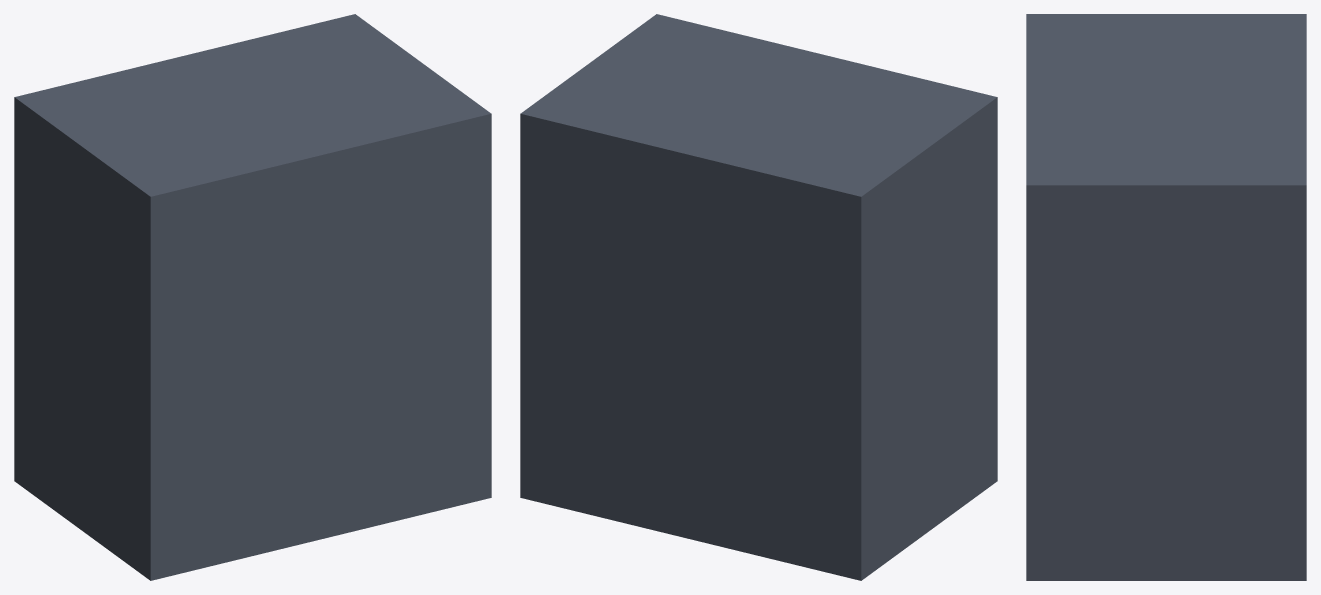
The model's file is computer_networks.glb.
3 renders of one model, left to right at view 1: azimuth 30°, elevation 25°; view 2: azimuth 150°, elevation 25°; view 3: azimuth 270°, elevation 25°, orthographic. The views are drawn at different scales.
Visible parts, largest first — view 1: ServerRackChassis; view 2: ServerRackChassis; view 3: ServerRackChassis.
Boxes of the visible parts, x1,y1,x2,y2 form: ServerRackChassis: (14,14,491,580); ServerRackChassis: (520,14,997,580); ServerRackChassis: (1026,14,1306,580).
Bounding box in the file's own units: 2.6 × 2.8 × 1.8.
